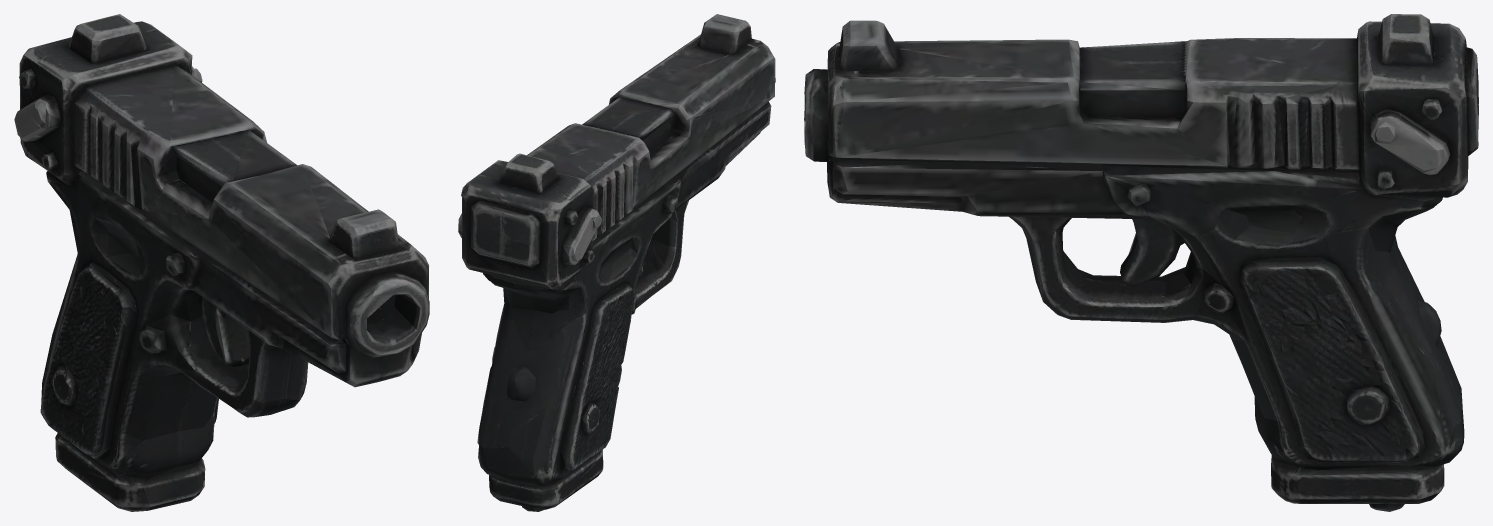
The model's file is gun_switch.glb.
3 renders of one model, left to right at view 1: azimuth 30°, elevation 25°; view 2: azimuth 150°, elevation 25°; view 3: azimuth 270°, elevation 25°, orthographic. The views are drawn at different scales.
Size of the model in its own units: 0.0611 by 0.1668 by 0.21.
Materials: 1 (1 with a texture image).
